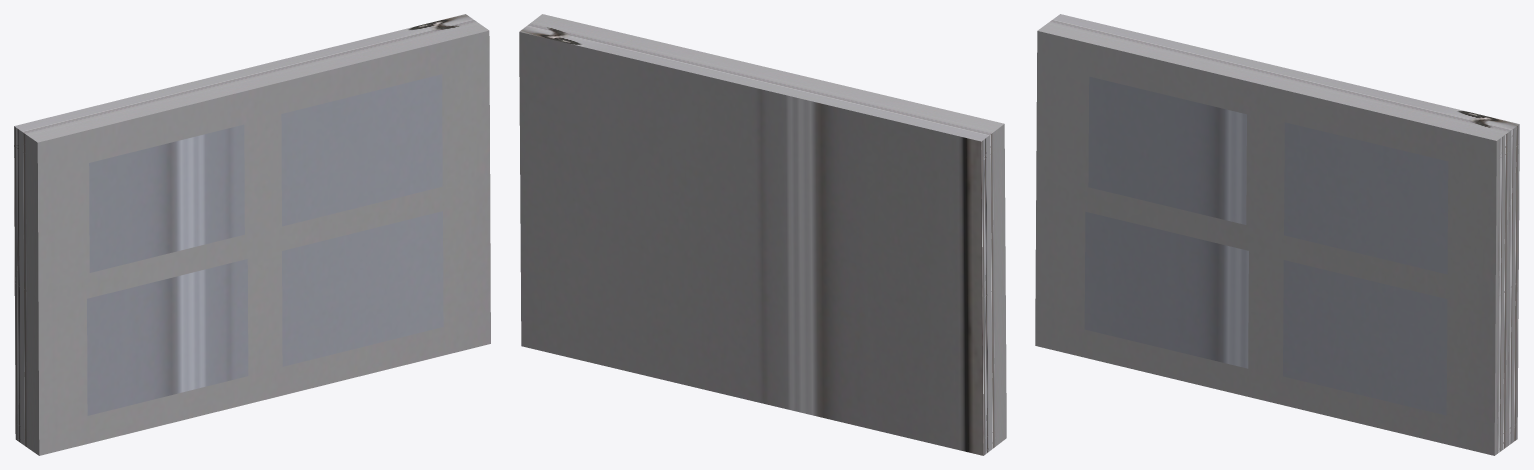
Rendered from window.gltf.
3 views of the same model, side by side, from view 1: azimuth 30°, elevation 25°; view 2: azimuth 150°, elevation 25°; view 3: azimuth 330°, elevation 25° (orthographic).
Visible parts, largest first — view 1: window; view 2: window; view 3: window.
Part boxes in pixels (<box>): window: <box>14,14,490,455</box>; window: <box>519,14,1006,455</box>; window: <box>1035,14,1519,455</box>.
Bounding box in the file's own units: 3.45 × 2.27 × 0.3637.
2 materials, 1 textured.
